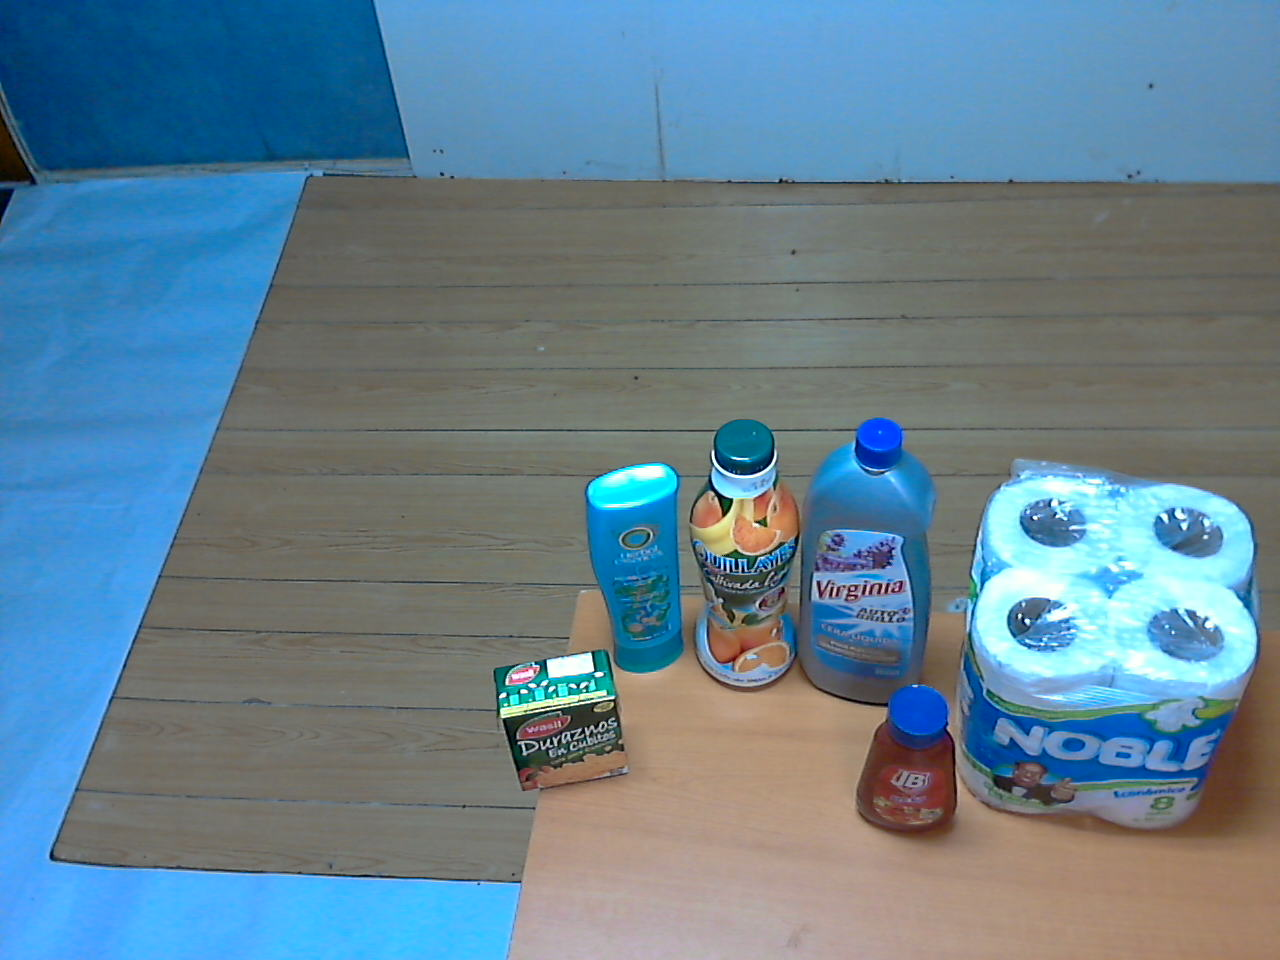balsamo: (577, 452, 699, 686)
cera: (785, 410, 950, 738)
confort: (946, 447, 1264, 851)
durazno: (482, 636, 650, 809)
ketchup: (849, 676, 967, 853)
yogurt: (677, 406, 814, 709)
